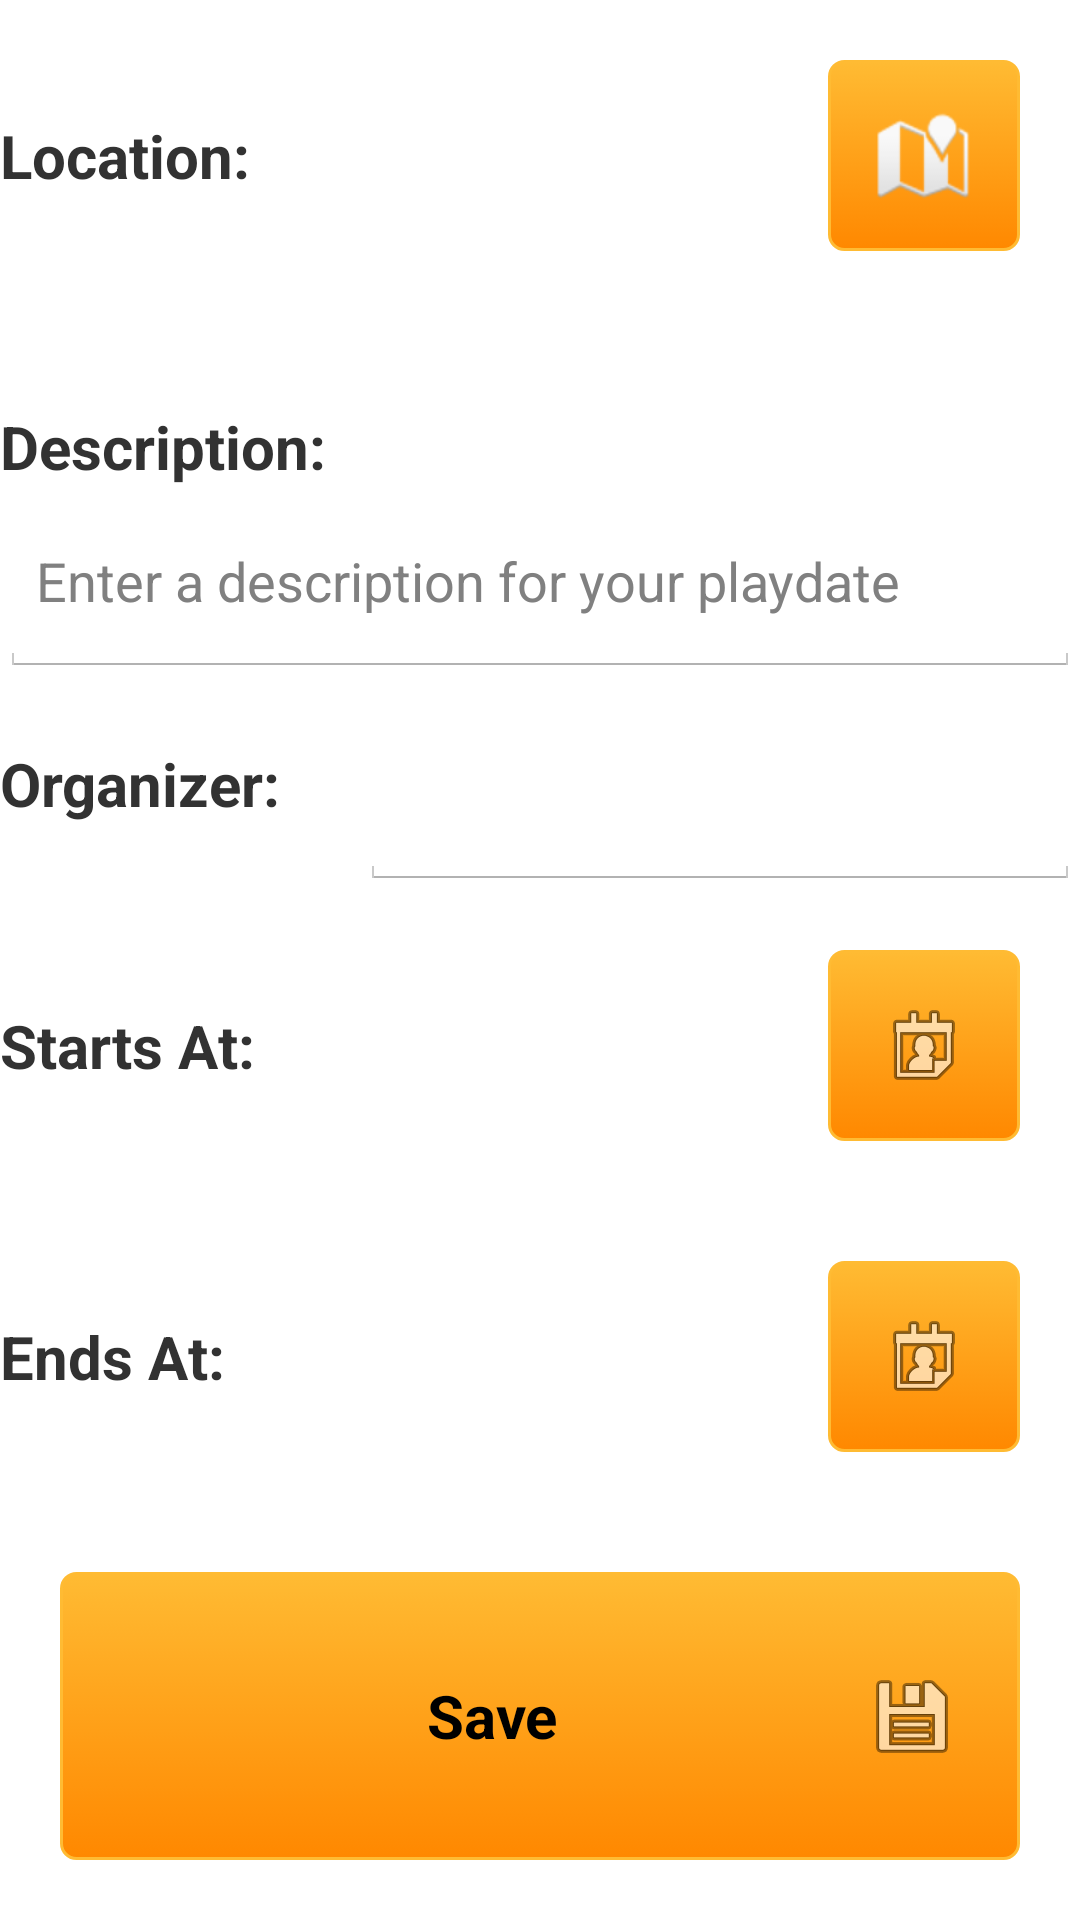

Locate icon controls on the screen. Image size 1080*1920, boxes as (x1, y1, x2, y2).
Ends At: (828, 950, 1020, 1141), (828, 1261, 1020, 1452)
map: (828, 60, 1020, 251)
